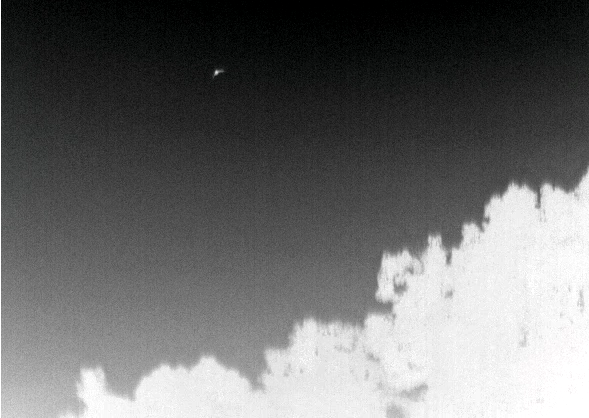dim target: (210, 68, 224, 79)
